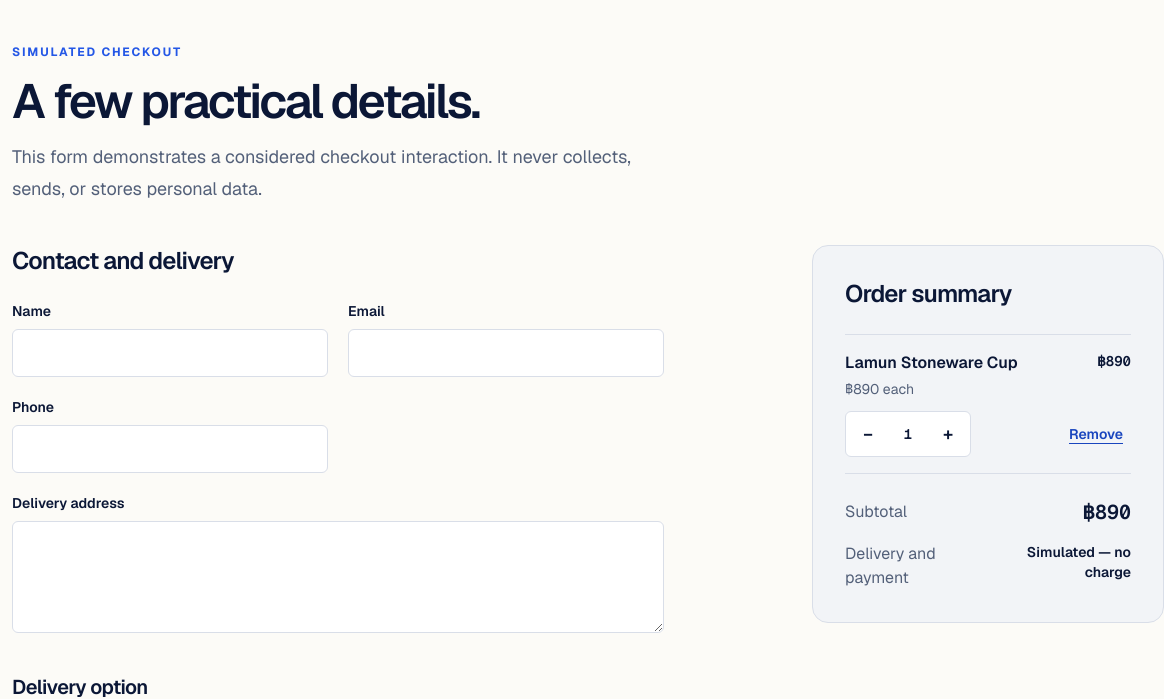
Test: CheckoutPage › clears the cart only after a valid simulated completion and announces it
In the field labelled "Name": (170, 353) [12, 329, 328, 377], type "Niran S."
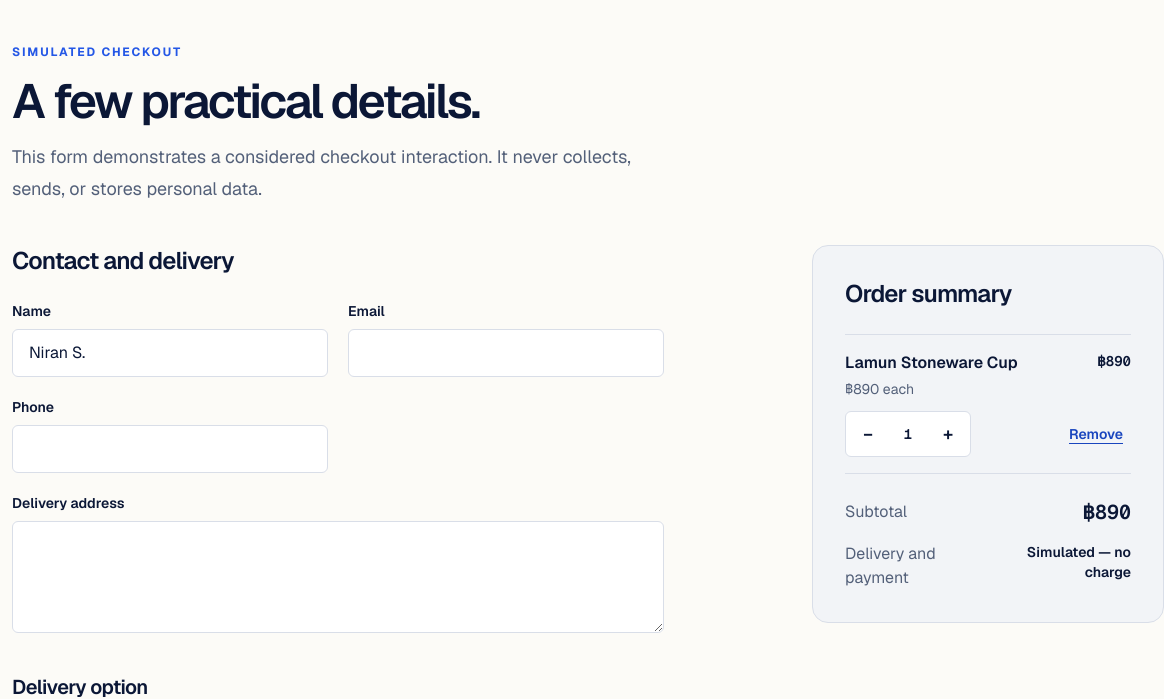
In the field labelled "Email": (506, 353) [348, 329, 664, 377], type "niran@example.test"
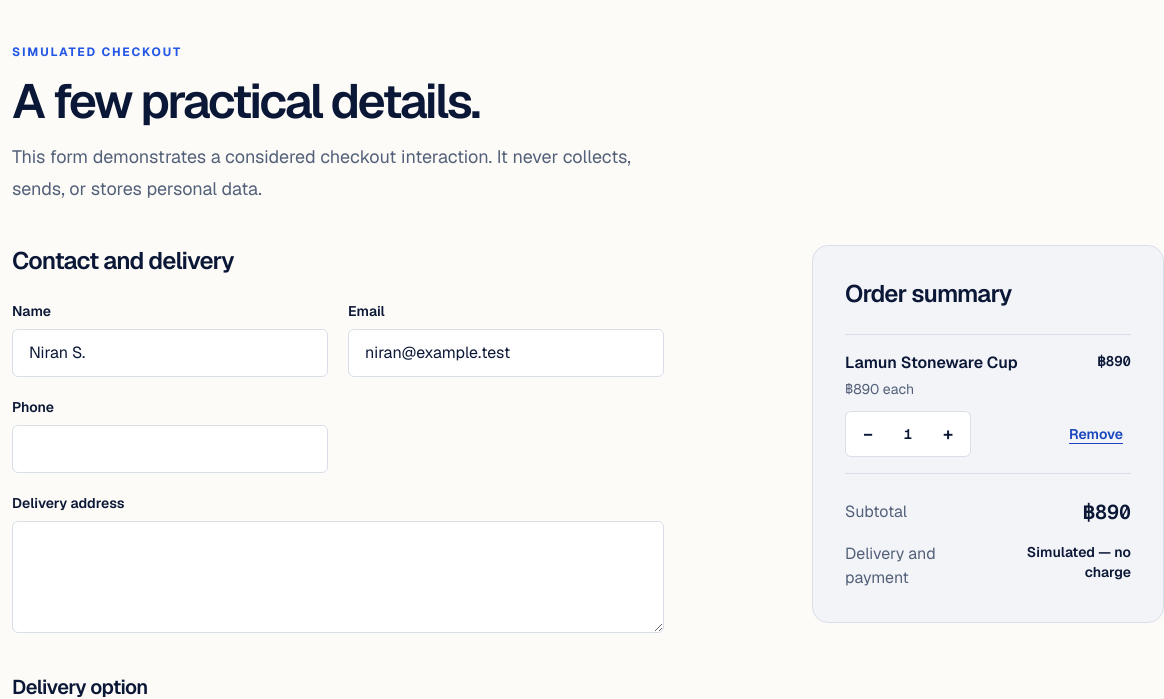
In the field labelled "Phone": (170, 449) [12, 425, 328, 473], type "0812345678"
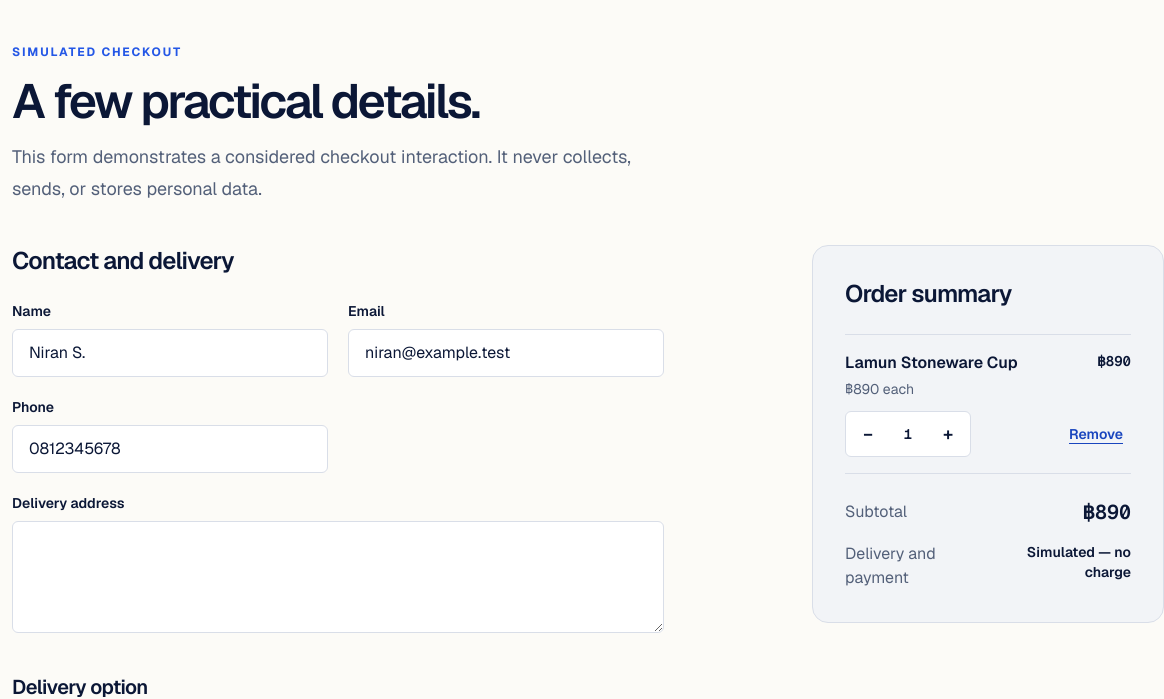
In the text box labelled "Delivery address": (338, 577) [12, 521, 664, 633], type "12 Example Lane, Bangkok"
(page scrolled)
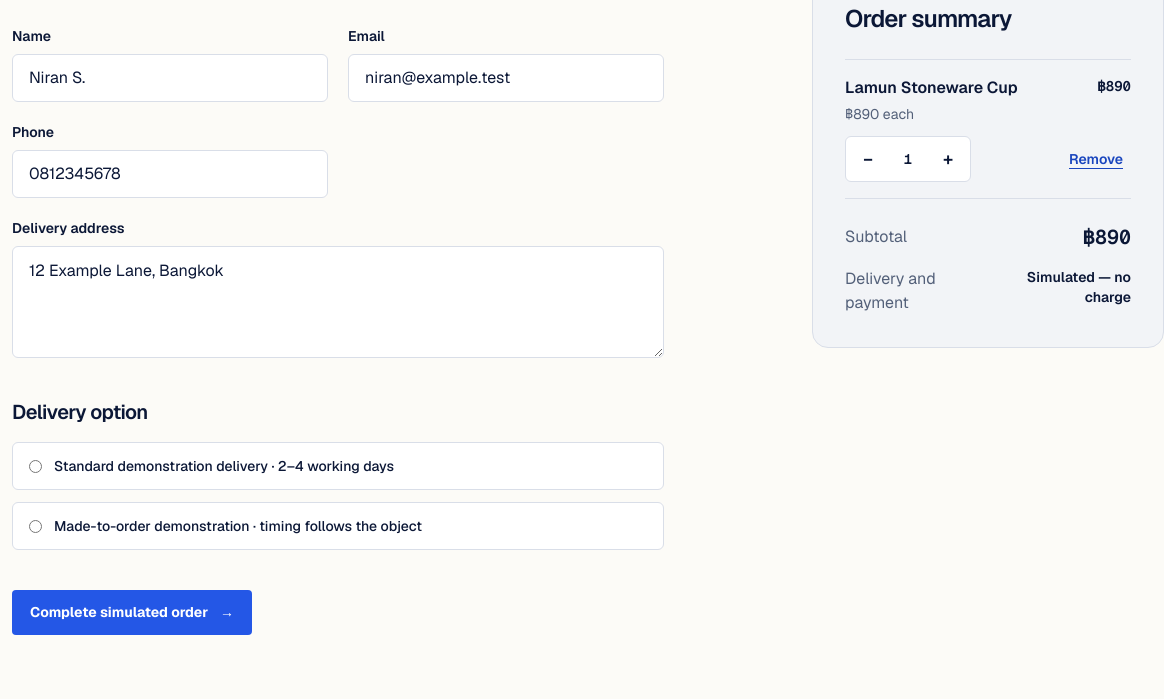
Click the radio button labelled "Standard demonstration delivery · 2–4 working days": click(36, 466) [29, 460, 42, 472]
(page scrolled)
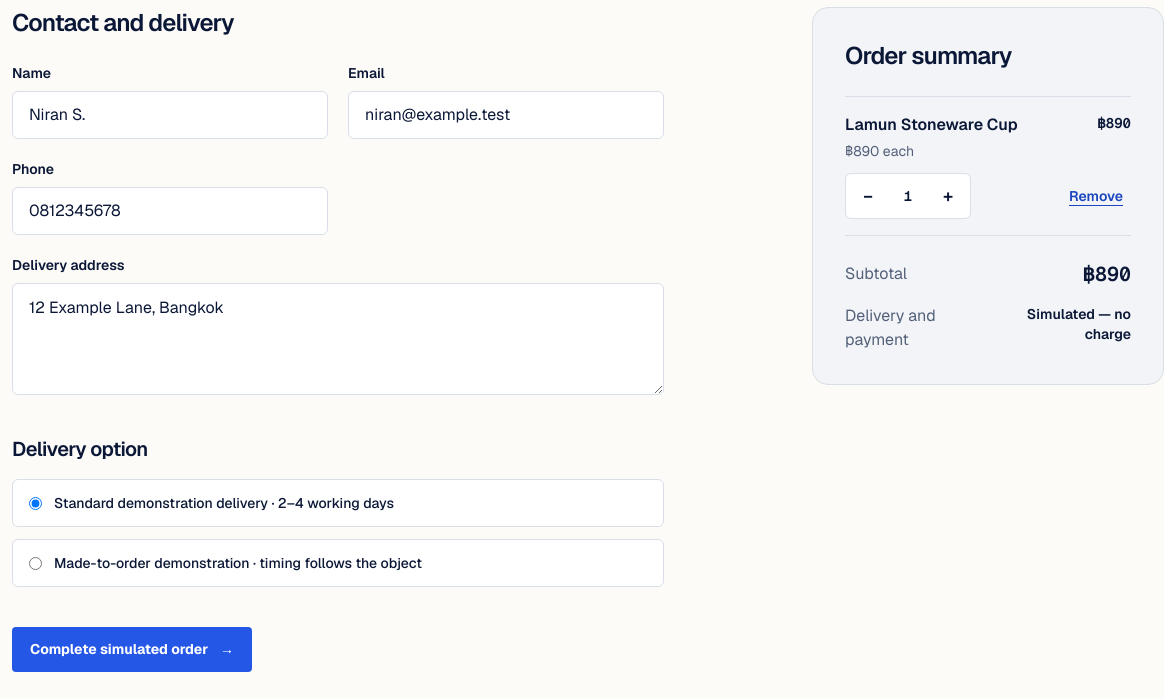
Submit the form named "complete simulated order", box [12, 7, 664, 672]
(page scrolled)
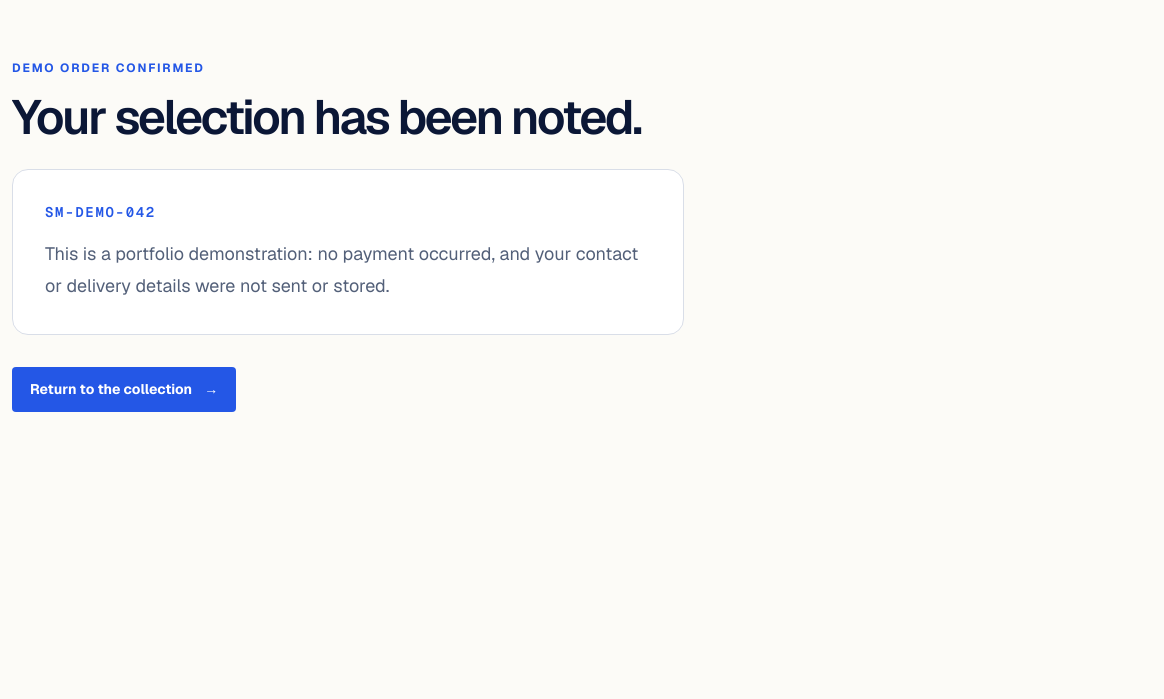
Expected: the message shows "no payment occurred", [45, 242, 638, 297]
Expected: the message shows "SM-DEMO-042", [45, 203, 156, 221]
